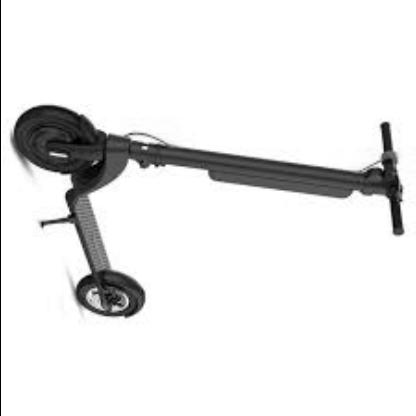bike: (13, 103, 409, 321)
